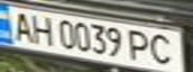0: (51, 17, 75, 51), (72, 20, 90, 53)
3: (87, 21, 109, 56)
9: (103, 25, 127, 58)
A: (6, 9, 36, 43)
C: (145, 30, 181, 66)
H: (27, 12, 57, 46)
P: (124, 28, 154, 62)
